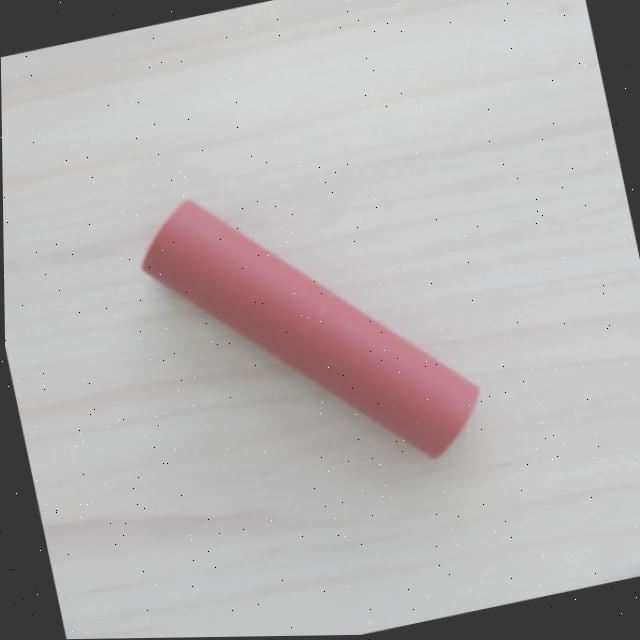Silinder-Merah-10025: (136, 195, 484, 463)
